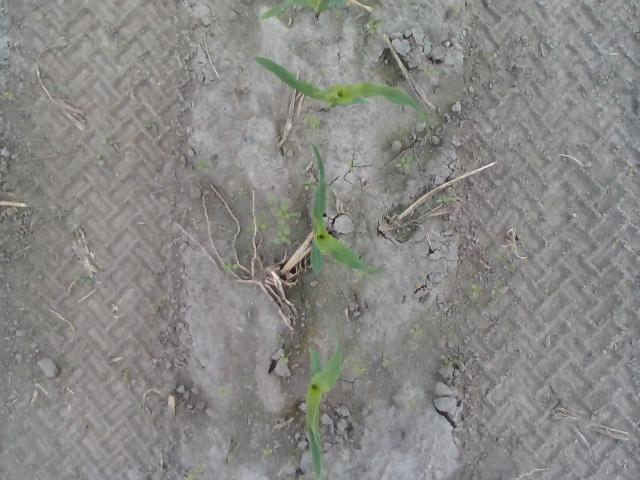Maize: (252, 54, 430, 122), (308, 142, 378, 275), (303, 340, 342, 480), (260, 0, 351, 19)
Weeds: (266, 190, 300, 248), (343, 354, 368, 375), (184, 464, 206, 480), (393, 157, 416, 172), (302, 113, 322, 128), (220, 260, 241, 273), (366, 18, 383, 34), (464, 282, 481, 298), (250, 217, 266, 231), (410, 325, 426, 338), (197, 158, 210, 172), (404, 398, 418, 410), (302, 180, 315, 191), (262, 447, 277, 456), (424, 66, 437, 76), (382, 354, 391, 368), (436, 194, 448, 204), (216, 387, 226, 398), (2, 90, 14, 97), (281, 354, 289, 362)
